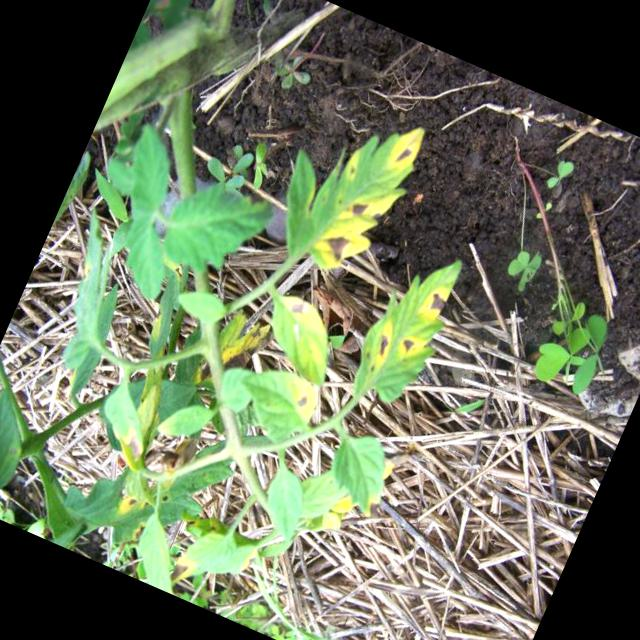Early_blight: (196, 311, 275, 398), (383, 119, 427, 179), (308, 224, 359, 270), (272, 290, 324, 329), (364, 317, 399, 370), (285, 377, 324, 422), (115, 426, 153, 467), (389, 330, 426, 368), (418, 285, 450, 327), (344, 196, 373, 226), (166, 557, 191, 587)
